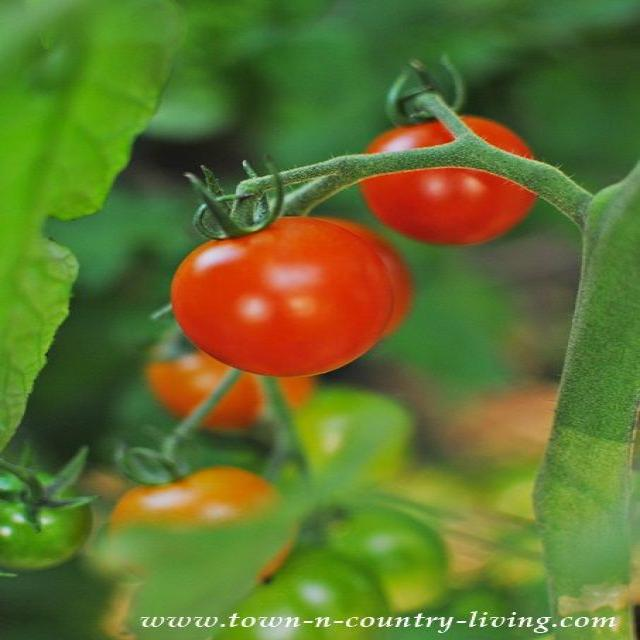level 5: (114, 466, 292, 585), (138, 318, 320, 422)
level 6: (172, 220, 385, 376), (356, 110, 538, 244)
